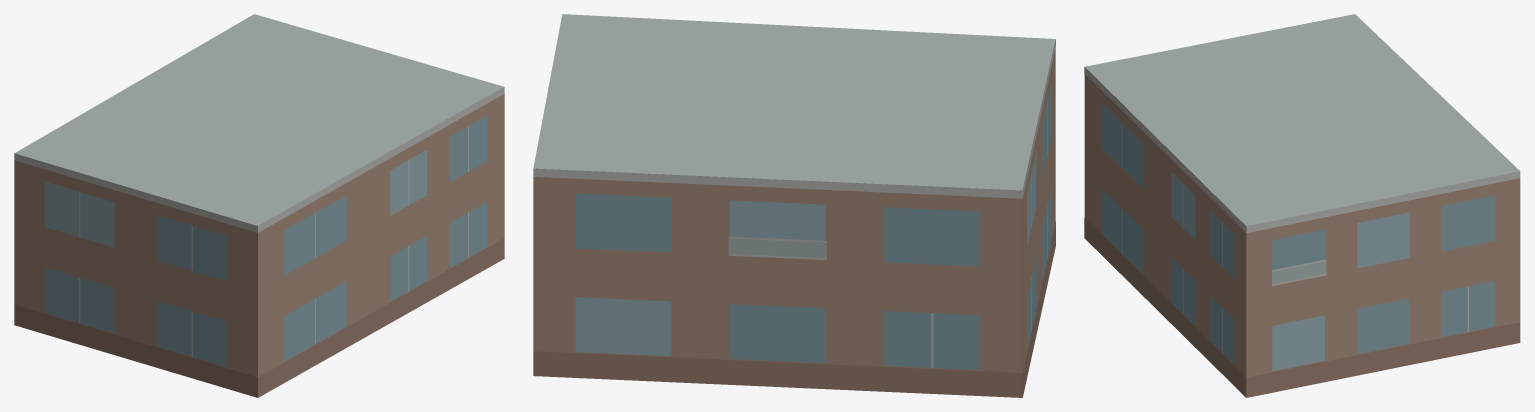
File: survey-upis-32623122.glb
The picture shows the model from 3 angles, left to right: view 1: azimuth 30°, elevation 25°; view 2: azimuth 150°, elevation 25°; view 3: azimuth 270°, elevation 25°; orthographic projection. The views are drawn at different scales.
Visible parts, largest first — view 1: survey-upis-32623122.tmp; view 2: survey-upis-32623122.tmp; view 3: survey-upis-32623122.tmp.
Boxes of the visible parts, box(x1,y1,x2,y2) form: survey-upis-32623122.tmp: box(14, 14, 504, 397); survey-upis-32623122.tmp: box(533, 14, 1055, 397); survey-upis-32623122.tmp: box(1084, 14, 1520, 397).
Size of the model in its own units: 16.2 by 6.1 by 14.05.
